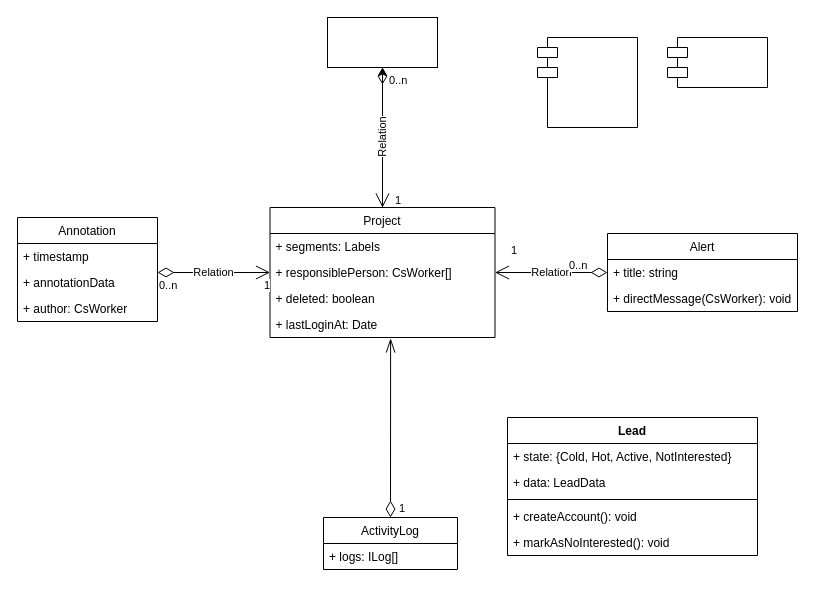
Some shapes in this 815 by 590 pixel diagram are drawn without their labels. Here are the shapes that lost their labels. From the top down, the centre of each, then its label:
At (x=382, y=42): "CsWorker".
At (x=717, y=62): "Reminder".
At (x=587, y=82): "QueryCriteria - MyProjects - HasAlerts - etc".
